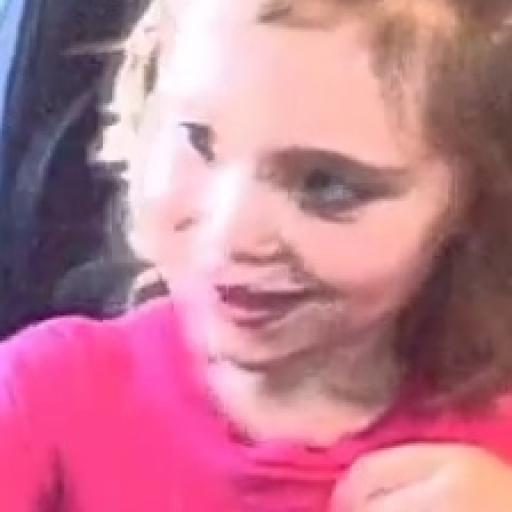Autism: (110, 14, 512, 420)
